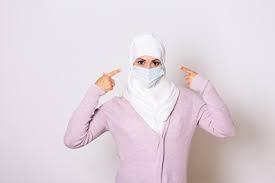Wearing Mask: (107, 25, 187, 99)
